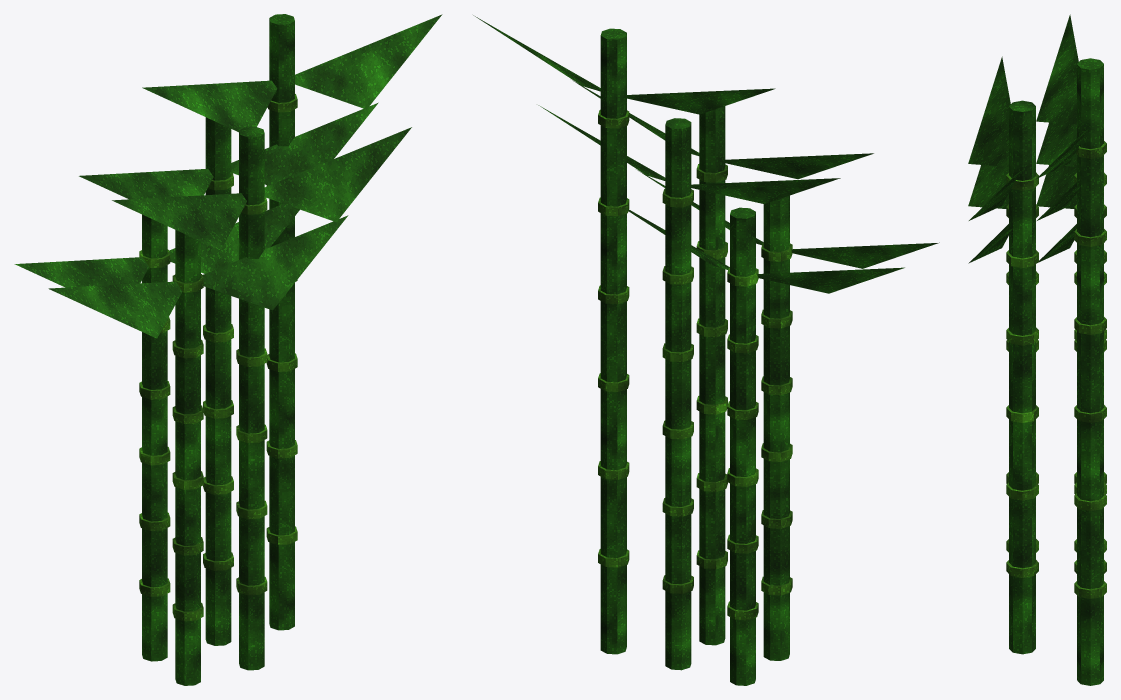
Rendered from bamboo.glb.
3 renders of one model, left to right at view 1: azimuth 30°, elevation 25°; view 2: azimuth 150°, elevation 25°; view 3: azimuth 270°, elevation 25°, orthographic.
Parts seen in each view (by area): view 1: Body; view 2: Body; view 3: Body.
Boxes of the visible parts, x1=… form: Body: x1=14, y1=14, x2=442, y2=685; Body: x1=473, y1=15, x2=939, y2=685; Body: x1=968, y1=14, x2=1106, y2=685.
Size of the model in its own units: 3.7 by 5 by 1.02.
2 materials, 2 textured.
